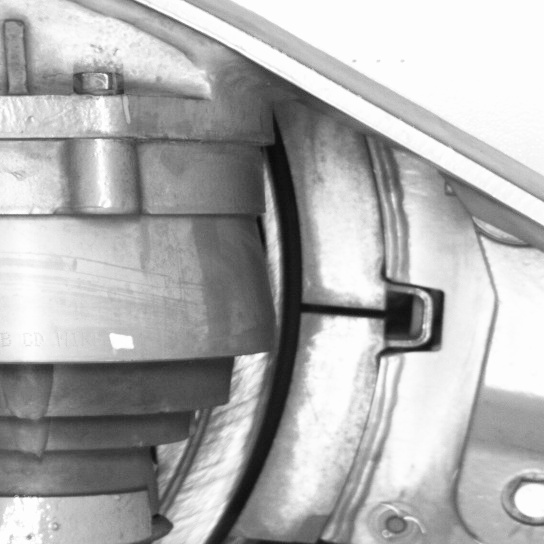KnifeSwitch: (200, 142, 411, 544)
